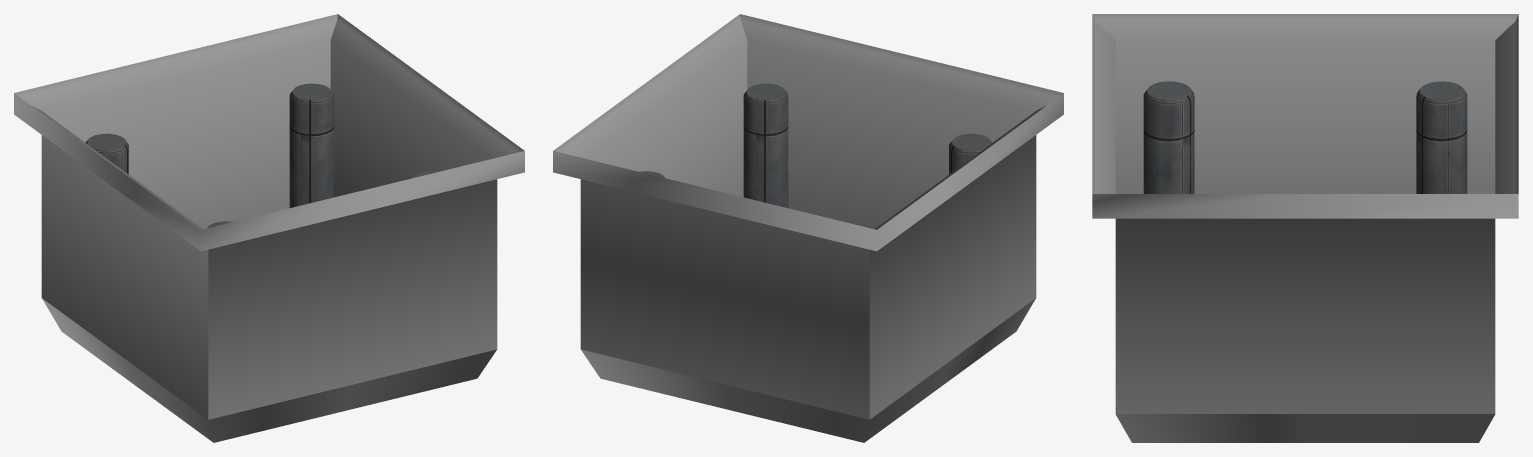
File: Neon_Floor_LiftBaseA1.FBX
The picture shows the model from 3 angles, left to right: view 1: azimuth 30°, elevation 25°; view 2: azimuth 150°, elevation 25°; view 3: azimuth 270°, elevation 25°; orthographic projection. The views are drawn at different scales.
Parts seen in each view (by area): view 1: Neon_Floor_LiftBaseA1; view 2: Neon_Floor_LiftBaseA1; view 3: Neon_Floor_LiftBaseA1.
Boxes of the visible parts, <box> form: Neon_Floor_LiftBaseA1: <box>14,14,524,442</box>; Neon_Floor_LiftBaseA1: <box>553,14,1063,442</box>; Neon_Floor_LiftBaseA1: <box>1092,14,1518,442</box>.
Size of the model in its own units: 8 by 5.61 by 8.
